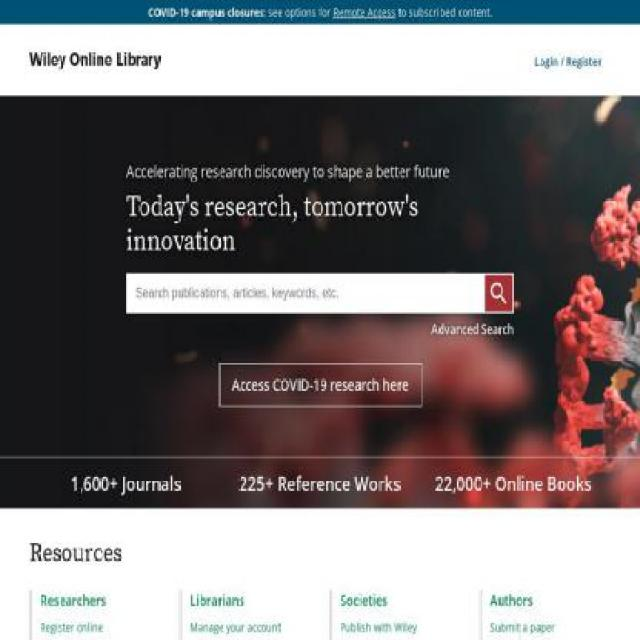button: (218, 363, 422, 406), (238, 469, 402, 500), (435, 469, 593, 500), (70, 469, 182, 500), (534, 52, 601, 70)
field: (126, 273, 514, 313)
